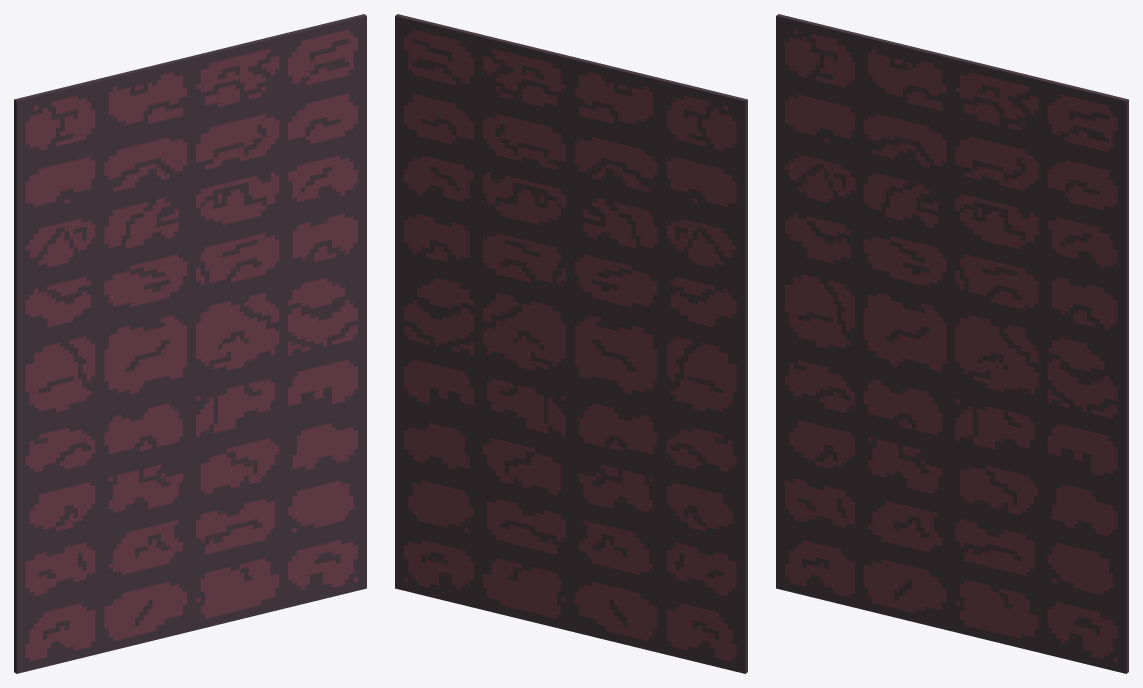
The model's file is TechoRojoRojo.obj.
3 renders of one model, left to right at view 1: azimuth 30°, elevation 25°; view 2: azimuth 150°, elevation 25°; view 3: azimuth 330°, elevation 25°, orthographic.
Bounding box in the file's own units: 8 × 12.5 × 0.1.
1 material, 1 textured.
